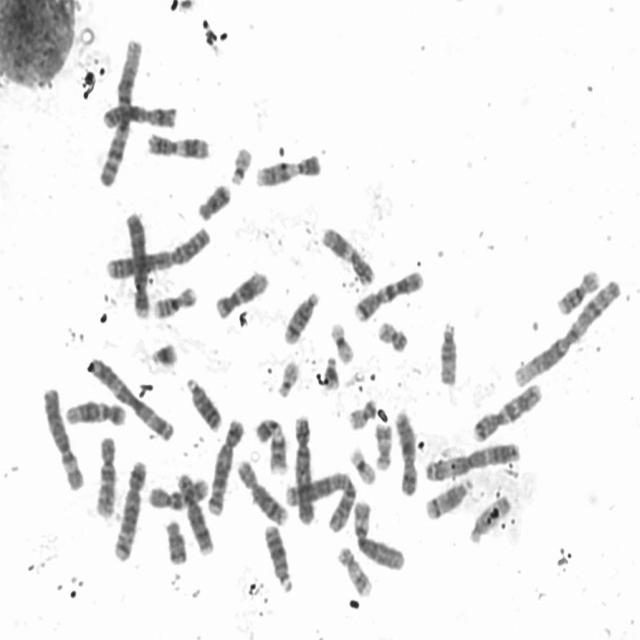A1: (510, 272, 625, 388), (96, 32, 146, 189)
A2: (102, 222, 213, 281), (285, 464, 359, 534)
A3: (85, 353, 177, 443), (422, 436, 524, 484)
B4: (121, 206, 152, 320), (292, 409, 319, 526)
B5: (205, 412, 247, 516), (110, 454, 148, 564)
C10: (146, 471, 212, 513), (90, 429, 119, 520)
C11: (318, 222, 377, 286), (143, 127, 213, 161)
C12: (211, 265, 271, 321), (61, 395, 128, 427)
C6: (38, 381, 86, 492), (349, 494, 408, 572)
C7: (469, 377, 545, 444), (351, 265, 426, 323)
C8: (233, 454, 290, 527), (174, 468, 216, 557)
C9: (251, 147, 324, 189), (252, 414, 290, 476)
D13: (261, 517, 295, 594), (182, 372, 224, 433)
D14: (422, 472, 476, 522), (280, 286, 322, 346)
D15: (466, 491, 514, 544), (436, 316, 460, 388)
E16: (553, 263, 602, 317), (149, 281, 199, 320)
E17: (334, 540, 375, 598), (371, 417, 394, 473)
E18: (194, 178, 233, 222), (161, 515, 189, 566)
F19: (346, 441, 379, 486), (327, 316, 356, 364)
F20: (374, 315, 410, 354), (345, 392, 379, 431)
G21: (147, 336, 181, 368), (320, 350, 342, 391)
G22: (227, 141, 254, 187), (274, 354, 302, 398)
X: (391, 405, 420, 497), (99, 98, 180, 130)
